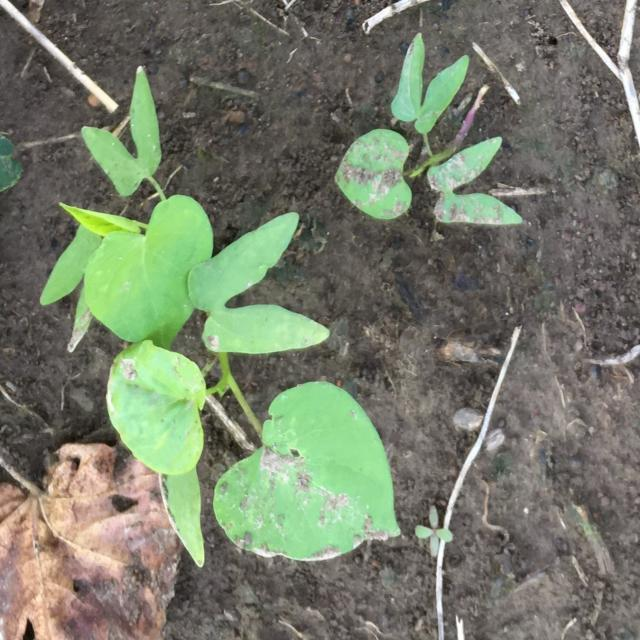MorningGlory: (106, 212, 401, 567), (40, 66, 213, 350), (334, 32, 522, 225)
